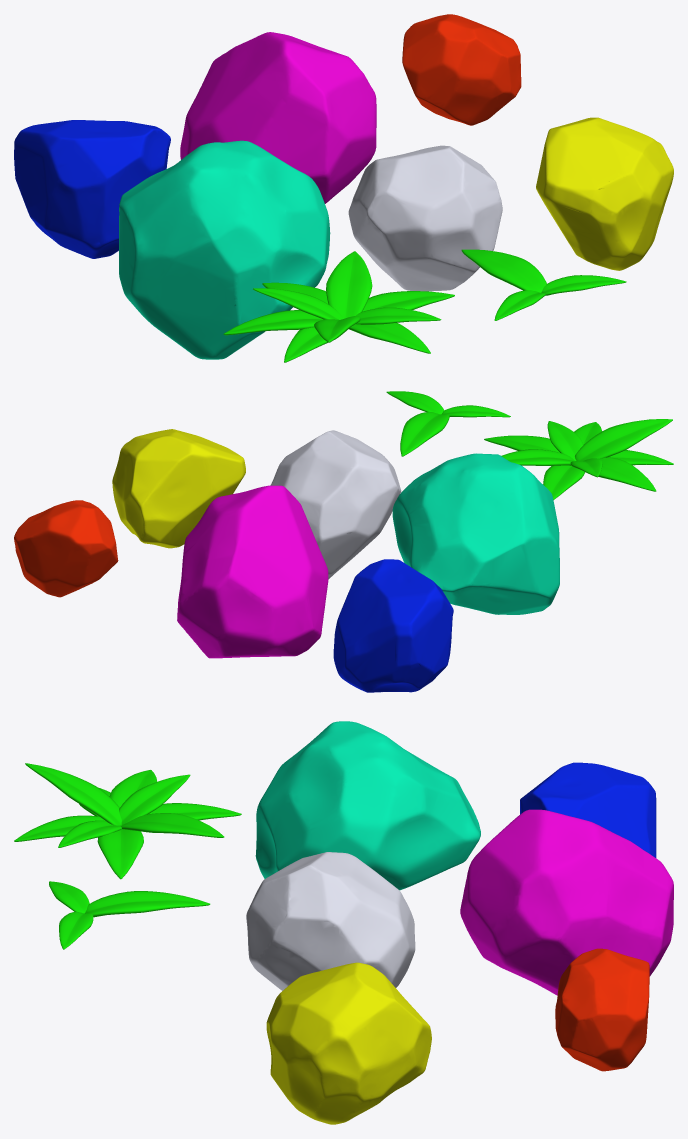
The model's file is Pieces_high.fbx.
3 renders of one model, top to bottom at view 1: azimuth 30°, elevation 25°; view 2: azimuth 150°, elevation 25°; view 3: azimuth 270°, elevation 25°, orthographic. The views are drawn at different scales.
Parts seen in each view (by area): view 1: Test_high; view 2: Test_high; view 3: Test_high.
Part boxes in pixels (<box>): Test_high: <box>14,14,673,362</box>; Test_high: <box>14,391,673,692</box>; Test_high: <box>14,721,673,1124</box>.
Bounding box in the file's own units: 175 × 62.85 × 187.
